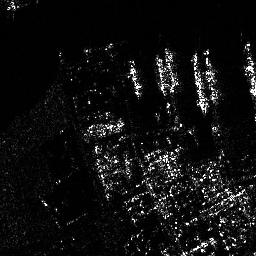ship: (190, 53, 207, 117), (239, 42, 256, 96), (162, 44, 179, 91), (129, 57, 142, 99), (155, 53, 168, 95)
